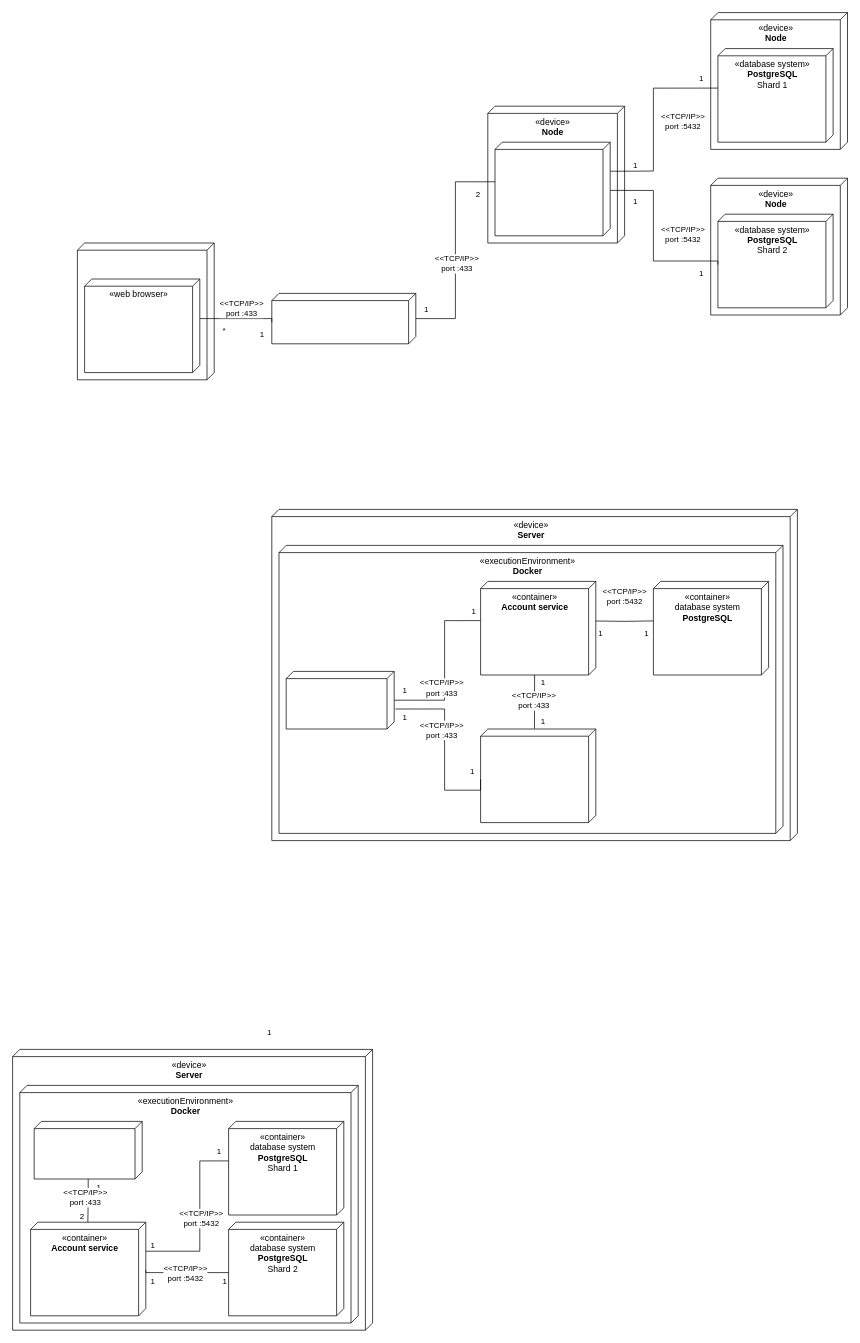
The diagram is 860 pixels wide and 1343 high, and some of its shapes have lost their labels. The shapes that lost their labels are listed below. From the top down, each one's box as (x1, y1, x2, y2) in pixels, then its label:
(494, 141, 610, 236): «service» Account service
(77, 242, 214, 380): «device» PC
(271, 293, 416, 344): «load balancer» nginx
(285, 671, 394, 729): « container » API Gateway Load balancer nginx
(480, 728, 596, 823): «container» OAuth 2.0 Authorization service
(33, 1121, 142, 1179): « container » load balancer nginx
